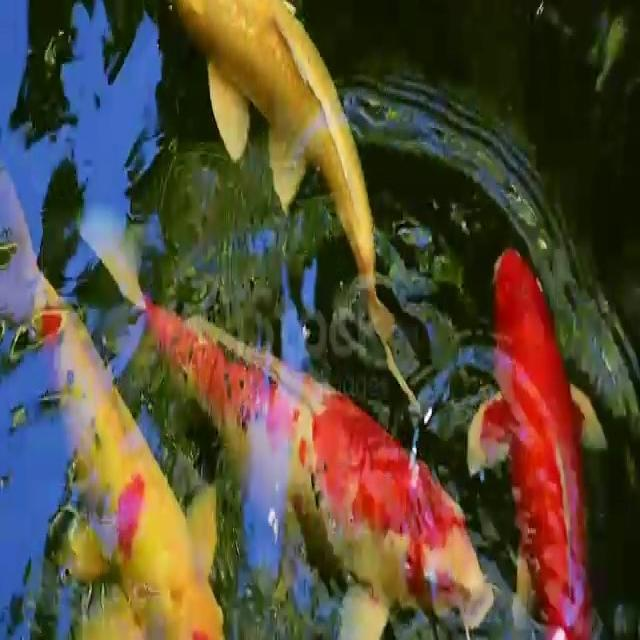fish: (144, 286, 510, 626), (188, 0, 410, 341), (28, 264, 224, 640), (477, 235, 606, 640)
